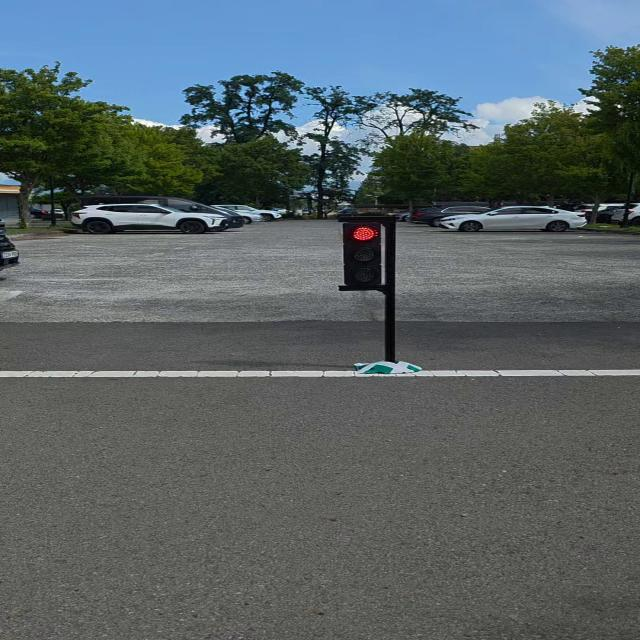red: (332, 217, 402, 291)
